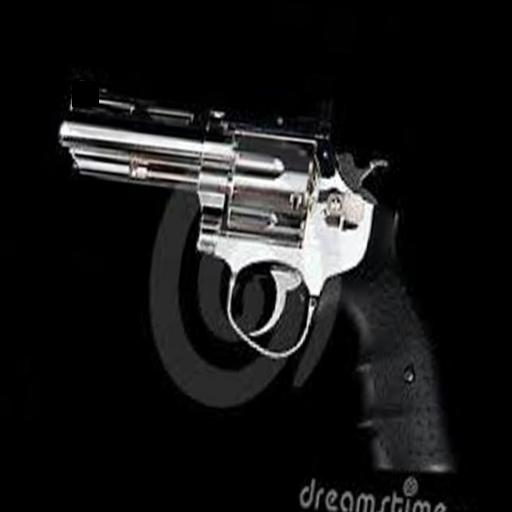Handgun: (18, 71, 504, 484)
